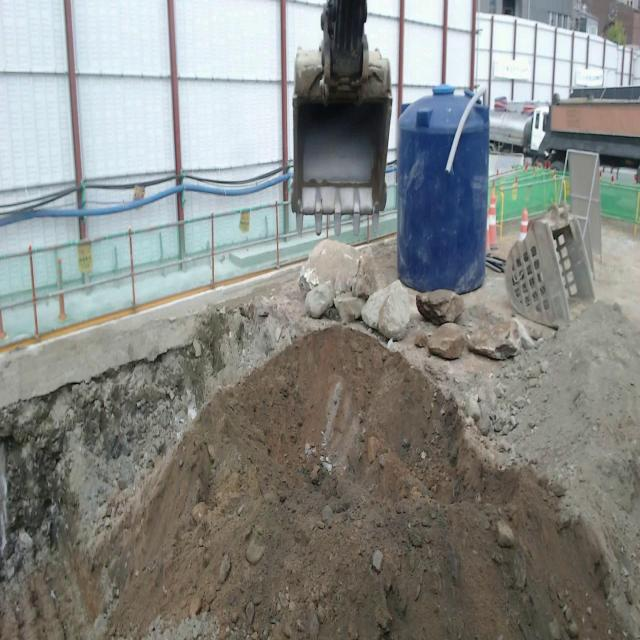cement: (0, 264, 300, 409)
red-sand: (0, 305, 640, 639)
rocks: (440, 361, 548, 435)
stone: (298, 239, 380, 321), (466, 321, 520, 360), (378, 280, 410, 339), (416, 290, 464, 325), (427, 323, 465, 360), (361, 286, 390, 329)
